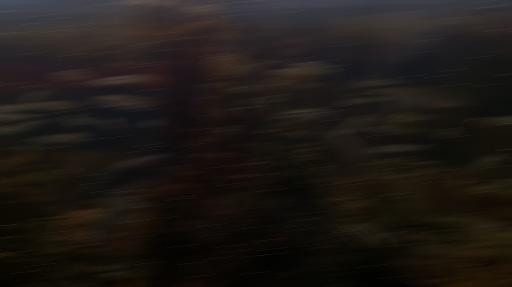Fish: (73, 154, 178, 204), (85, 197, 142, 241), (327, 130, 366, 162), (346, 224, 391, 248), (0, 119, 50, 135), (452, 216, 507, 229), (334, 114, 369, 134), (91, 75, 154, 86), (93, 95, 148, 107), (276, 108, 325, 120), (293, 62, 332, 77), (369, 144, 432, 152), (33, 101, 82, 111), (389, 97, 402, 134), (472, 154, 503, 169), (0, 102, 40, 113), (66, 115, 96, 129), (227, 63, 262, 75), (370, 88, 421, 96), (53, 70, 90, 80), (361, 79, 406, 87), (116, 102, 159, 110), (473, 180, 511, 189), (100, 118, 121, 134), (398, 112, 433, 121), (33, 134, 66, 143), (392, 96, 434, 103), (270, 68, 305, 76), (61, 133, 88, 143), (26, 90, 49, 101), (0, 114, 36, 121), (369, 125, 396, 134), (64, 115, 81, 128), (207, 54, 238, 61), (263, 80, 288, 88), (436, 129, 455, 139), (285, 130, 308, 138), (141, 119, 158, 129), (488, 117, 511, 124), (19, 144, 36, 153), (218, 126, 237, 134), (234, 85, 255, 92), (362, 97, 386, 103), (199, 83, 214, 91), (261, 96, 275, 104)
